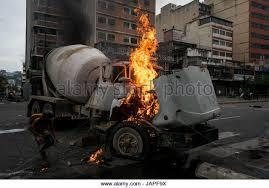fire: (127, 8, 160, 116), (85, 139, 111, 164)
